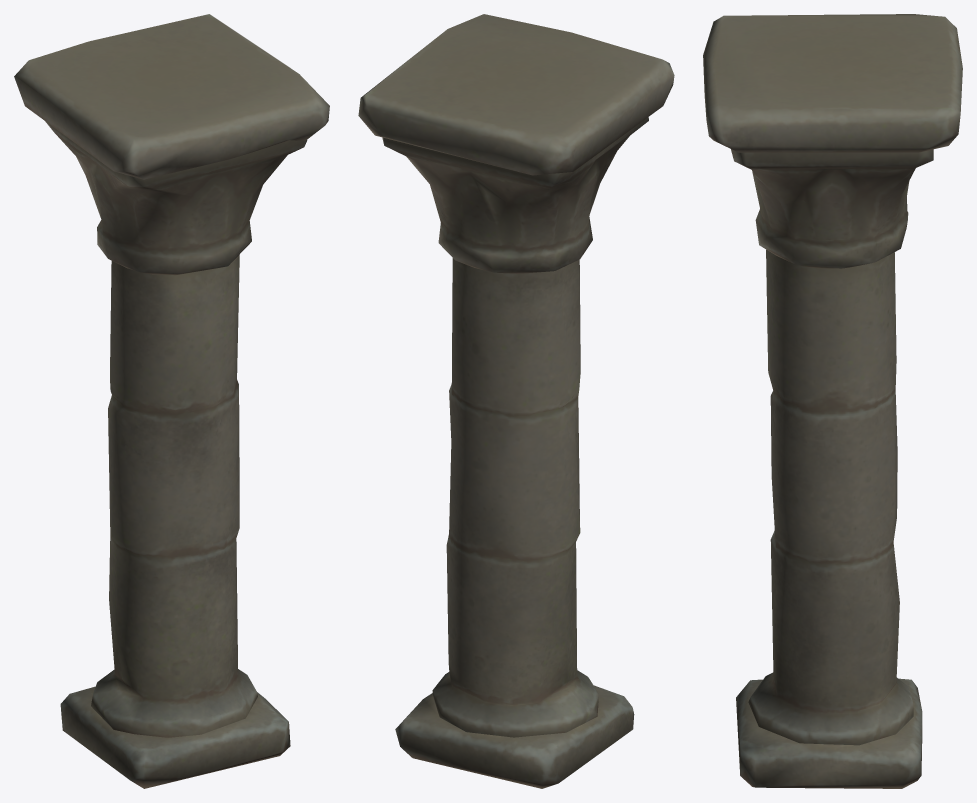
File: SM_FW01_Ruins_Decor_Column_4m_01.fbx
3 views of the same model, side by side, from view 1: azimuth 30°, elevation 25°; view 2: azimuth 150°, elevation 25°; view 3: azimuth 270°, elevation 25° (orthographic). The views are drawn at different scales.
Visible parts, largest first — view 1: SM_FW01_Ruins_Decor_Column_4m_01_LOD0; view 2: SM_FW01_Ruins_Decor_Column_4m_01_LOD0; view 3: SM_FW01_Ruins_Decor_Column_4m_01_LOD0.
Part boxes in pixels (x1=…): SM_FW01_Ruins_Decor_Column_4m_01_LOD0: x1=14, y1=14, x2=329, y2=788; SM_FW01_Ruins_Decor_Column_4m_01_LOD0: x1=358, y1=14, x2=674, y2=788; SM_FW01_Ruins_Decor_Column_4m_01_LOD0: x1=703, y1=14, x2=962, y2=788.
Size of what is drawn, in the model's own units: 1.34 by 4.06 by 1.38.
